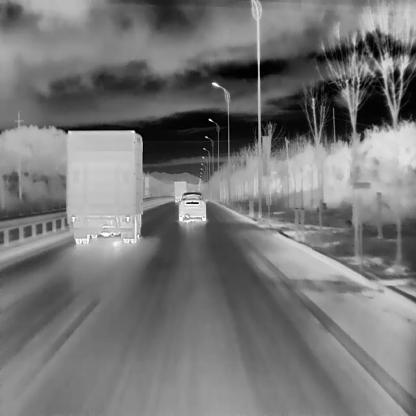car: (67, 128, 148, 243), (178, 190, 206, 221), (174, 180, 185, 201)
